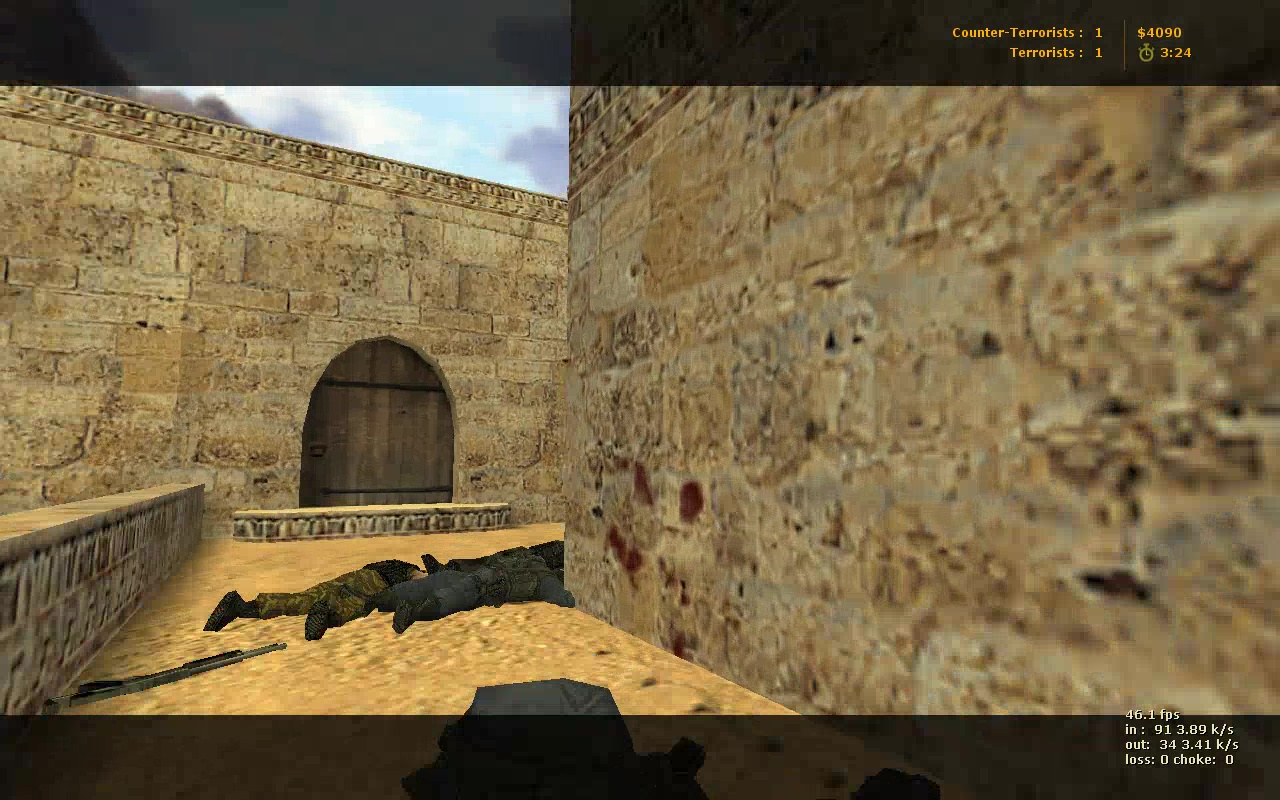dead: (205, 558, 429, 636), (366, 550, 571, 627)
